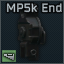MP5K End Cap stock: (0, 0, 64, 64)
